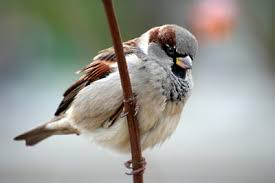hsparrow: (13, 24, 214, 176)
